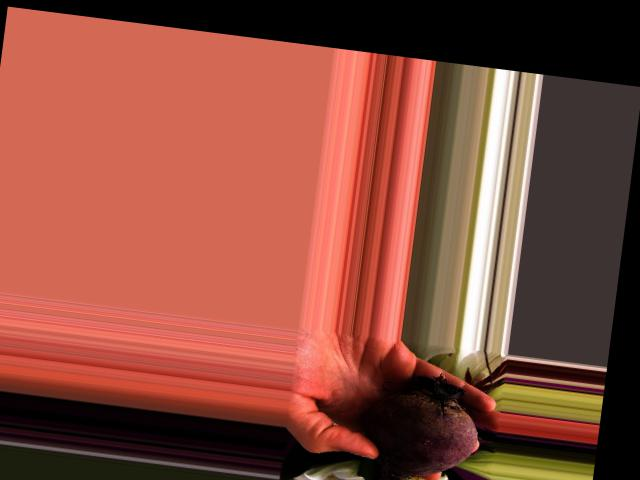beet: (356, 365, 486, 480)
